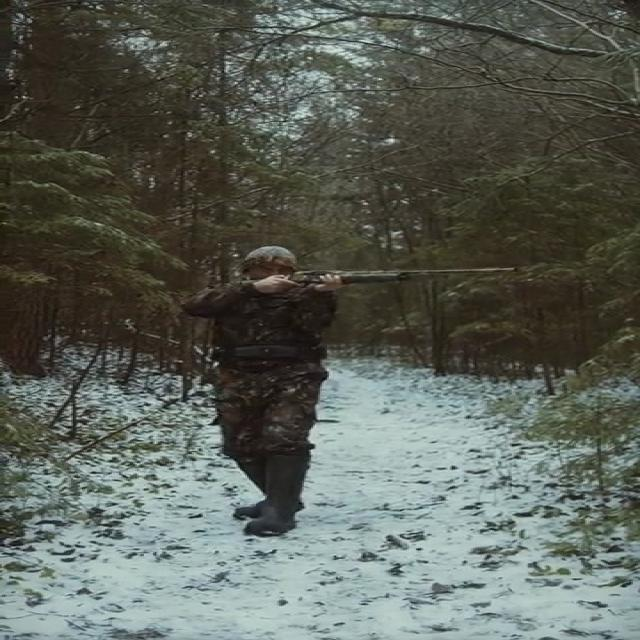Gun_Holder: (272, 265, 532, 290)
Person: (176, 236, 349, 534)
